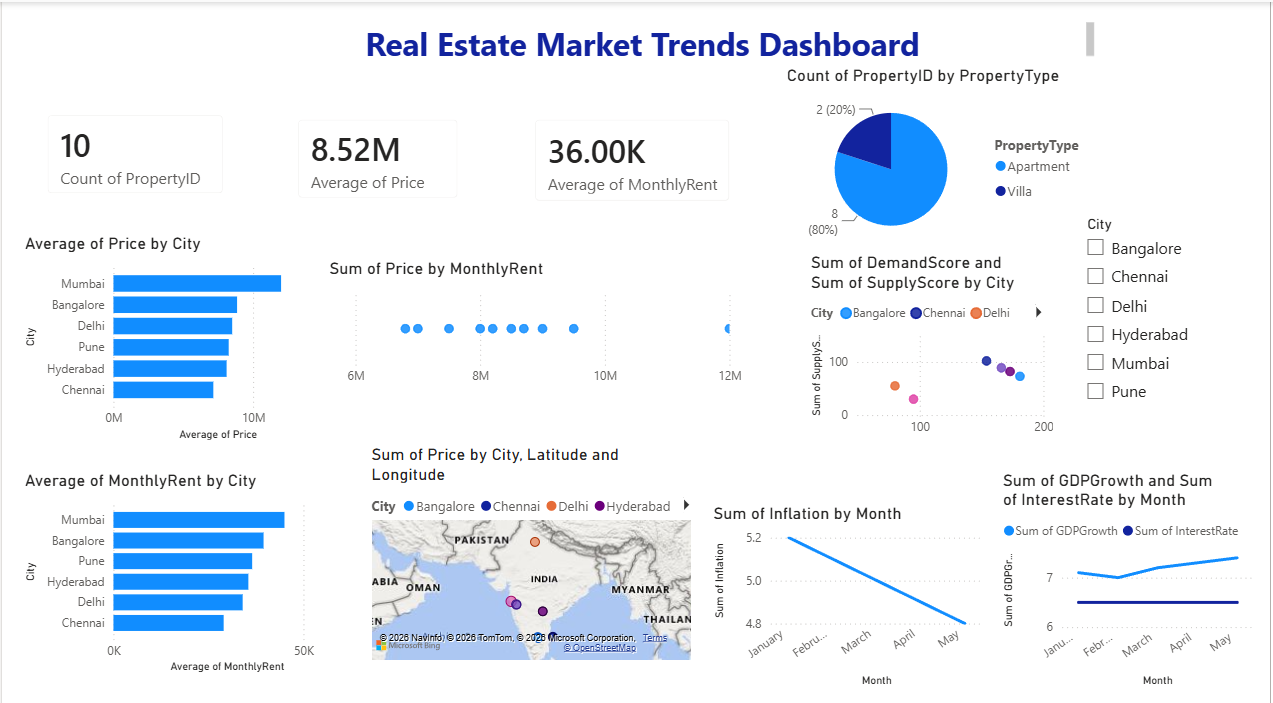

The page's visual inventory and layout, read from the dashboard file:
{"tool":"powerbi","page":{"name":"Market Overview","canvas":[1280,720],"ordinal":0},"visuals":[{"type":"cardVisual","fields":{"Data":["CountNonNull(PropertyData.PropertyID)"]},"box":[28.8,96.9,212,113.6],"z":0},{"type":"cardVisual","fields":{"Data":["Avg(PropertyData.Price)"]},"box":[281.6,101.5,195.3,113.6],"z":1000},{"type":"cardVisual","fields":{"Data":["Avg(PropertyData.MonthlyRent)"]},"box":[520.9,101.5,230.2,116.6],"z":2000},{"type":"pieChart","fields":{"Category":["PropertyData.PropertyType"],"Y":["CountNonNull(PropertyData.PropertyID)"]},"box":[787.4,63.6,319.5,189.3],"z":3000},{"type":"clusteredBarChart","fields":{"Category":["PropertyData.City"],"Y":["Avg(PropertyData.Price)"]},"box":[18.2,233.2,322.5,213.5],"z":4000},{"type":"textbox","box":[193.5,15.1,914,48],"z":5000},{"type":"clusteredBarChart","fields":{"Category":["PropertyData.City"],"Y":["Avg(PropertyData.MonthlyRent)"]},"box":[18.2,472.4,339.2,209],"z":6000},{"type":"scatterChart","fields":{"X":["Sum(PropertyData.Price)"],"Category":["PropertyData.MonthlyRent"]},"box":[325.6,258.9,425.5,136.3],"z":7000},{"type":"scatterChart","fields":{"X":["Sum(PropertyData.DemandScore)"],"Y":["Sum(PropertyData.SupplyScore)"],"Series":["PropertyData.City"]},"box":[811.6,252.9,254.4,193.8],"z":8000},{"type":"map","fields":{"Y":["PropertyData.Latitude"],"X":["PropertyData.Longitude"],"Size":["Sum(PropertyData.Price)"],"Series":["PropertyData.City"]},"box":[367.8,446,333.5,222.3],"z":9000},{"type":"slicer","fields":{"Values":["PropertyData.City"]},"box":[1082.7,210.5,184.7,209],"z":10000},{"type":"lineChart","fields":{"Y":["Sum(EconomicIndicators.Inflation)"],"Category":["EconomicIndicators.Date.Variation.Date Hierarchy.Month"]},"box":[713.6,505,281.3,189.4],"z":11000},{"type":"lineChart","fields":{"Category":["EconomicIndicators.Date.Variation.Date Hierarchy.Month"],"Y":["Sum(EconomicIndicators.GDPGrowth)","Sum(EconomicIndicators.InterestRate)"]},"box":[1005.9,472.1,262.1,222.3],"z":12000}]}

Visuals, with their boxes in screenshot pixels (x1, y1, x2, y2), scaled from the page's 1280x720 canvas onto the 1273x703 screenshot:
cardVisual - CountNonNull(PropertyData.PropertyID): 29, 95, 239, 206
cardVisual - Avg(PropertyData.Price): 280, 99, 474, 210
cardVisual - Avg(PropertyData.MonthlyRent): 518, 99, 747, 213
pieChart - PropertyData.PropertyType x CountNonNull(PropertyData.PropertyID): 783, 62, 1101, 247
clusteredBarChart - PropertyData.City x Avg(PropertyData.Price): 18, 228, 339, 436
textbox: 192, 15, 1101, 62
clusteredBarChart - PropertyData.City x Avg(PropertyData.MonthlyRent): 18, 461, 355, 665
scatterChart - Sum(PropertyData.Price) x PropertyData.MonthlyRent: 324, 253, 747, 386
scatterChart - Sum(PropertyData.DemandScore) x Sum(PropertyData.SupplyScore): 807, 247, 1060, 436
map - PropertyData.Latitude x PropertyData.Longitude: 366, 435, 697, 653
slicer - PropertyData.City: 1077, 206, 1260, 410
lineChart - Sum(EconomicIndicators.Inflation) x EconomicIndicators.Date.Variation.Date Hierarchy.Month: 710, 493, 989, 678
lineChart - EconomicIndicators.Date.Variation.Date Hierarchy.Month x Sum(EconomicIndicators.GDPGrowth): 1000, 461, 1261, 678
